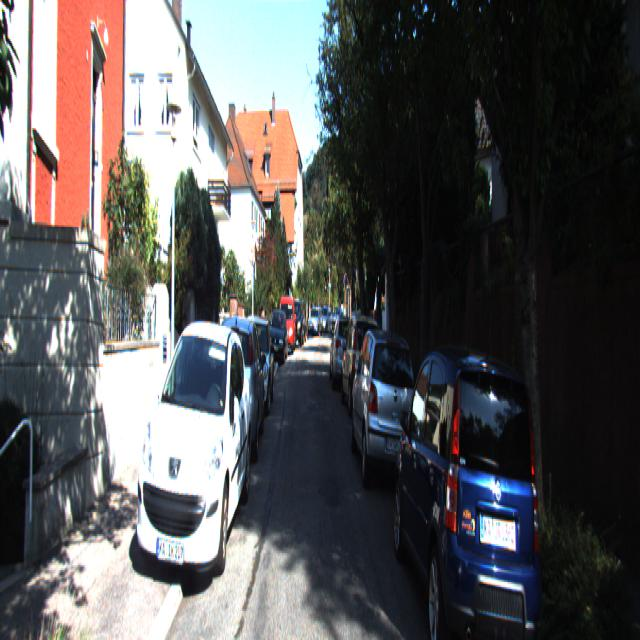Car: (391, 321, 553, 638), (133, 312, 254, 604), (352, 324, 424, 510), (211, 311, 266, 467), (340, 312, 384, 423), (234, 316, 275, 421), (620, 473, 640, 638), (329, 312, 361, 396), (268, 310, 289, 369), (278, 294, 297, 358), (287, 302, 304, 352)
